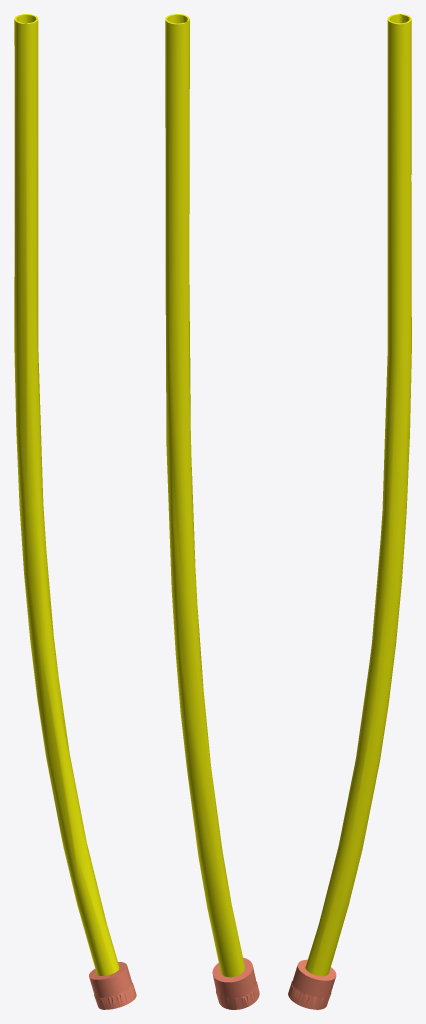
The model's file is Yellow Pip.fbx.
3 renders of one model, left to right at view 1: azimuth 90°, elevation 25°; view 2: azimuth 150°, elevation 25°; view 3: azimuth 270°, elevation 25°, orthographic. The views are drawn at different scales.
Visible parts, largest first — view 1: Yellow pip; view 2: Yellow pip; view 3: Yellow pip.
Boxes of the visible parts, x1=… form: Yellow pip: x1=14, y1=14, x2=136, y2=1009; Yellow pip: x1=165, y1=14, x2=259, y2=1009; Yellow pip: x1=288, y1=14, x2=411, y2=1009.
Size of the model in its own units: 1.91 by 42.74 by 4.83.
1 material, 1 textured.
